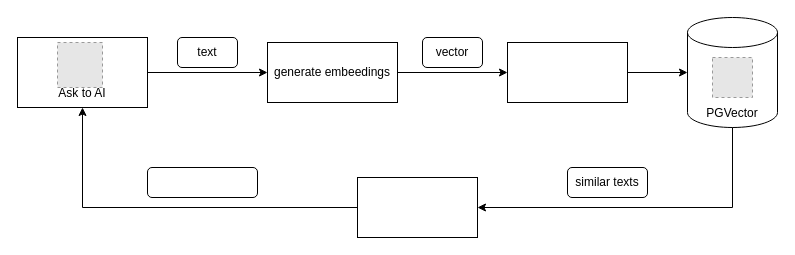
This 795x255 diagram has some shape labels left out. Grey dashed boxes stand in for pictures. Here are the shapes that lost their labels. From the top down, the box of each, then its label:
(506, 42, 628, 102): cosine similarity
(146, 166, 258, 198): prompt with context
(356, 176, 478, 238): build context
